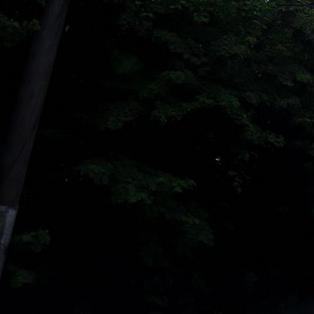Poste: (0, 0, 142, 314)
